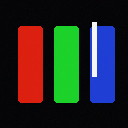4 line_v: (92, 22, 96, 76)
